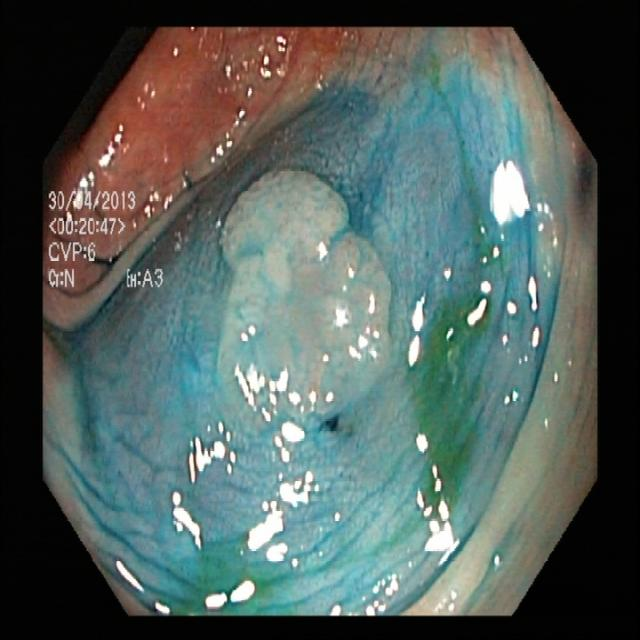dyed-lifted-polyps: (207, 164, 393, 459)
